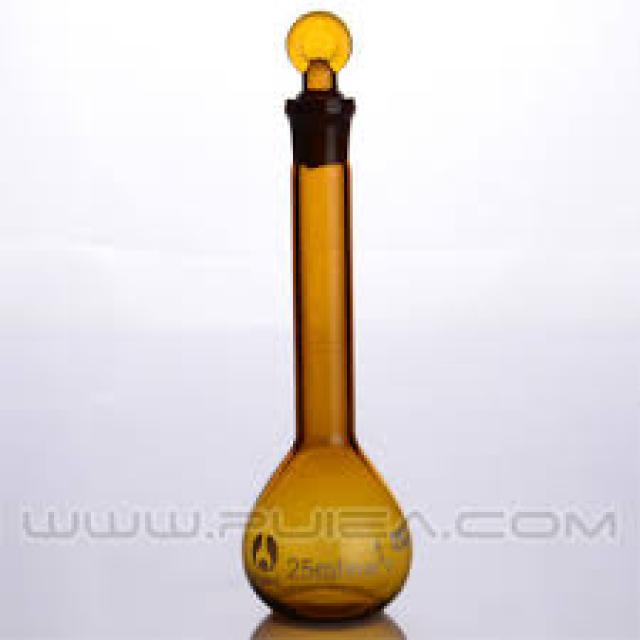glass: (239, 9, 410, 620)
